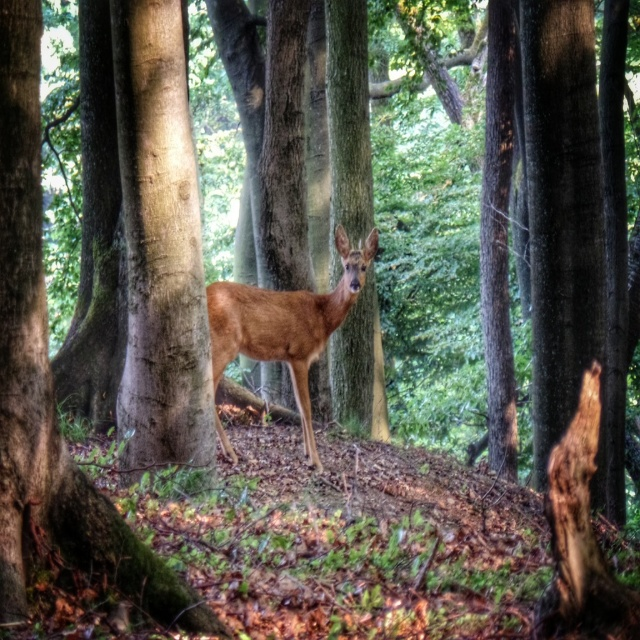Deer: (203, 220, 382, 478)
